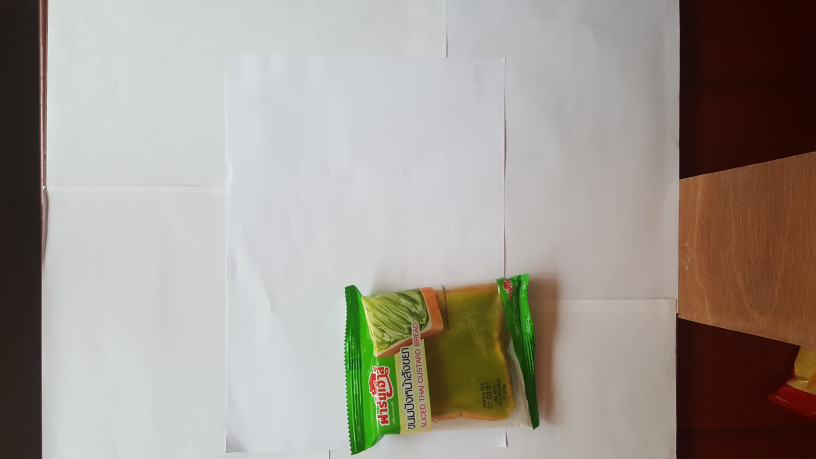farmhouse-bread-pandan: (337, 270, 544, 455)
